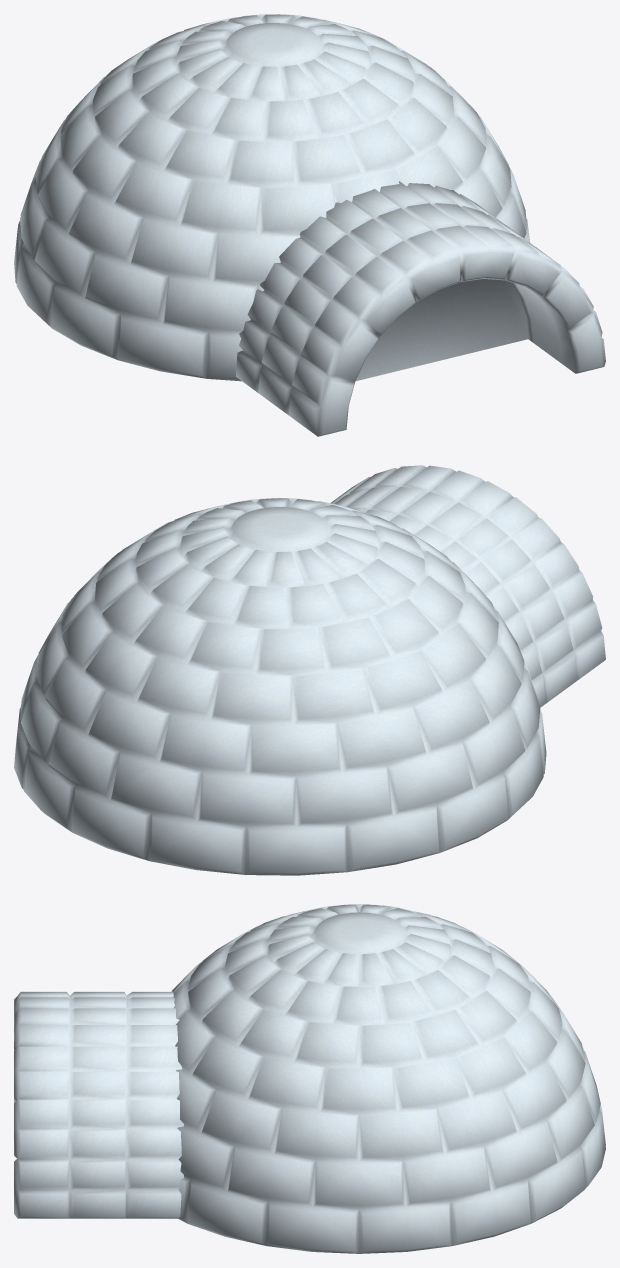
File: IglooSnowballStep.fbx
The picture shows the model from 3 angles, top to bottom: view 1: azimuth 30°, elevation 25°; view 2: azimuth 150°, elevation 25°; view 3: azimuth 270°, elevation 25°; orthographic projection. The views are drawn at different scales.
Parts seen in each view (by area): view 1: Sphere.002; view 2: Sphere.002; view 3: Sphere.002.
Boxes of the visible parts, x1=… form: Sphere.002: x1=14, y1=14, x2=605, y2=436; Sphere.002: x1=14, y1=465, x2=605, y2=875; Sphere.002: x1=14, y1=904, x2=605, y2=1253.
Bounding box in the file's own units: 105453 × 52466 × 126631.
1 material, 1 textured.
